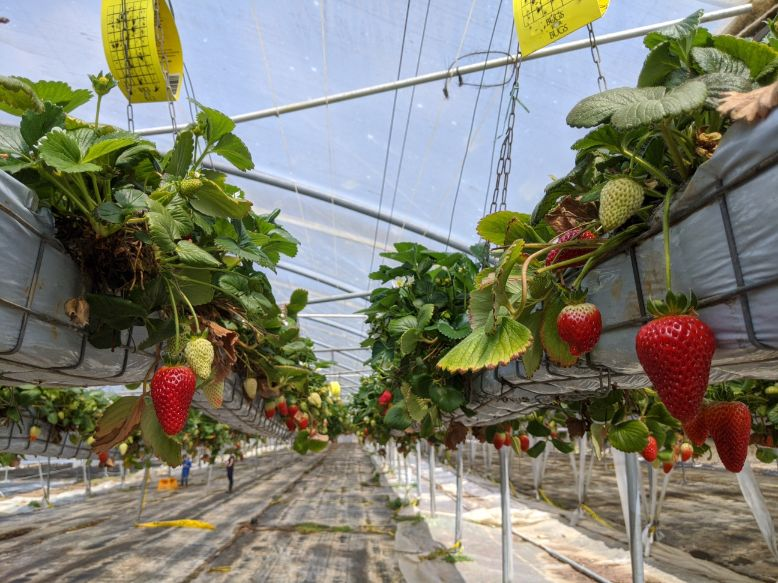green_strawberry: (594, 175, 648, 235), (182, 338, 215, 376), (205, 379, 225, 410), (241, 375, 260, 401), (181, 177, 202, 193), (326, 380, 341, 398), (28, 423, 42, 440), (308, 392, 325, 405), (118, 441, 130, 455)
red_strawberry: (632, 308, 719, 428), (706, 397, 757, 472), (557, 301, 607, 362), (154, 366, 194, 436), (638, 435, 657, 461), (677, 440, 696, 463), (491, 430, 509, 450), (376, 389, 394, 407), (295, 412, 311, 431), (518, 434, 531, 451), (264, 402, 276, 416), (277, 400, 289, 414), (288, 403, 297, 418)
